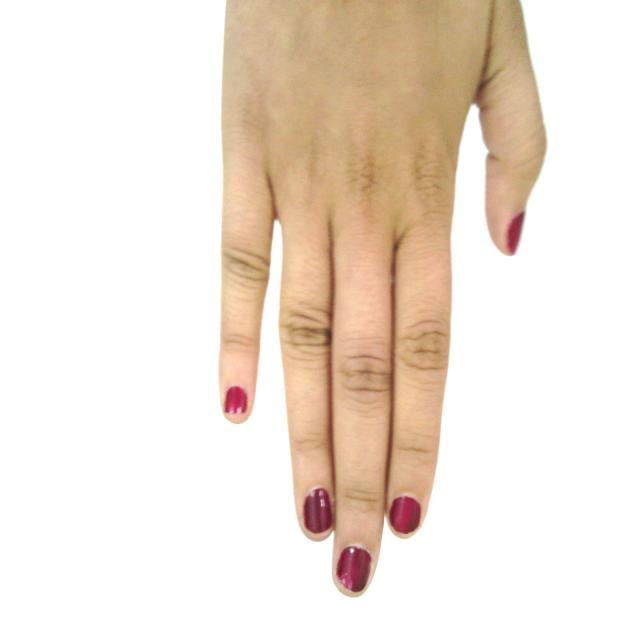Fingernail: (336, 547, 370, 593), (304, 489, 332, 534), (390, 496, 420, 534), (508, 214, 524, 254), (226, 387, 246, 415)
